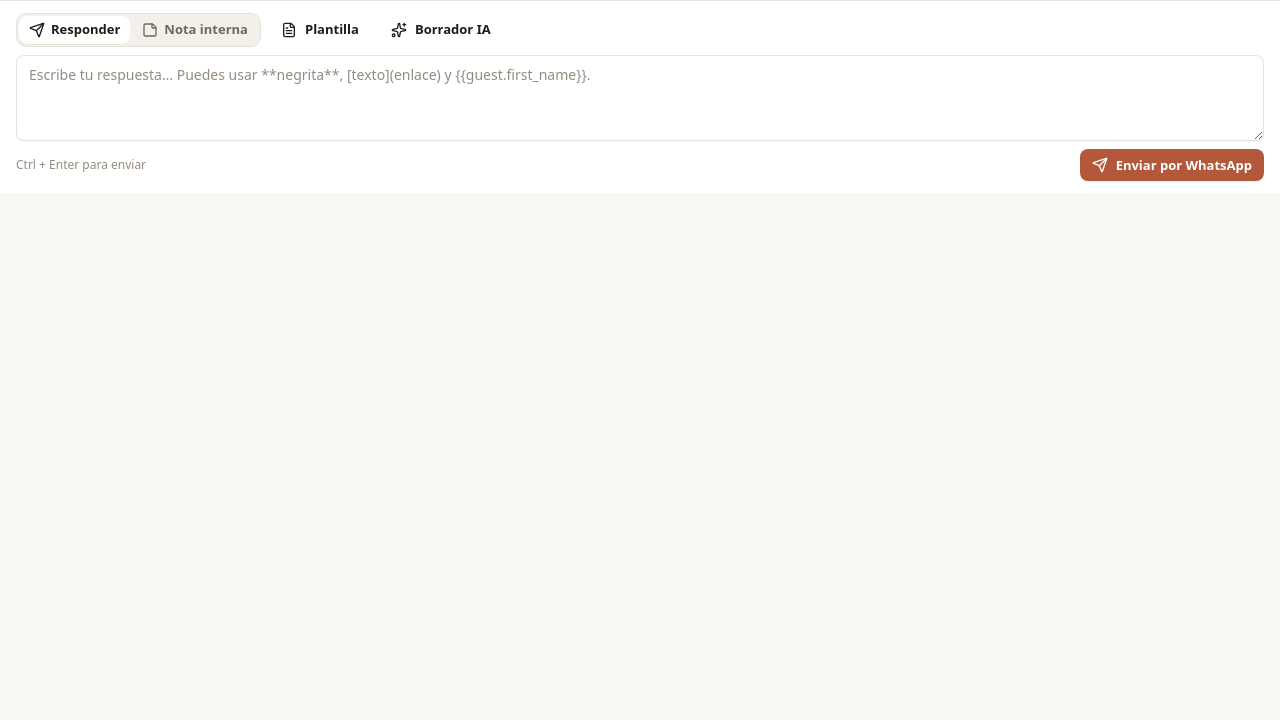
Test: Composer › hides the AI draft when the AI module is not installed (404)
Click the button "Borrador IA": (441, 30) [379, 14, 503, 46]
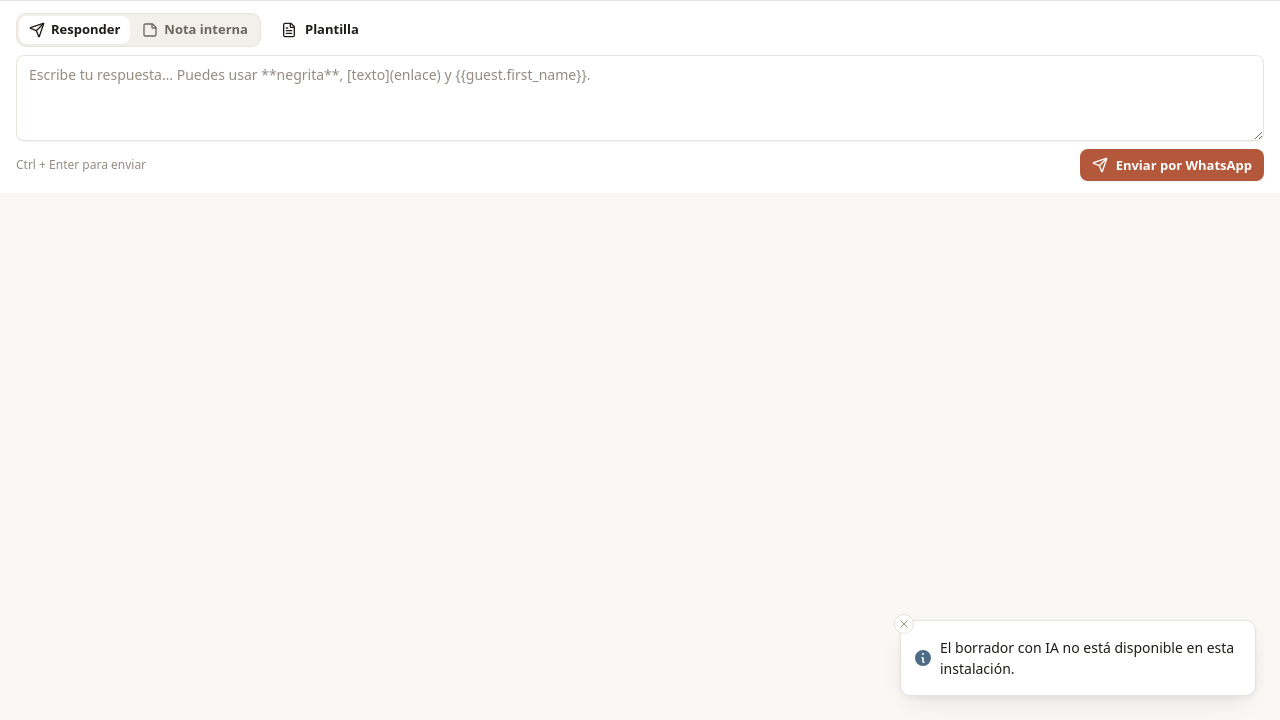
Now the button "Borrador IA" is gone
